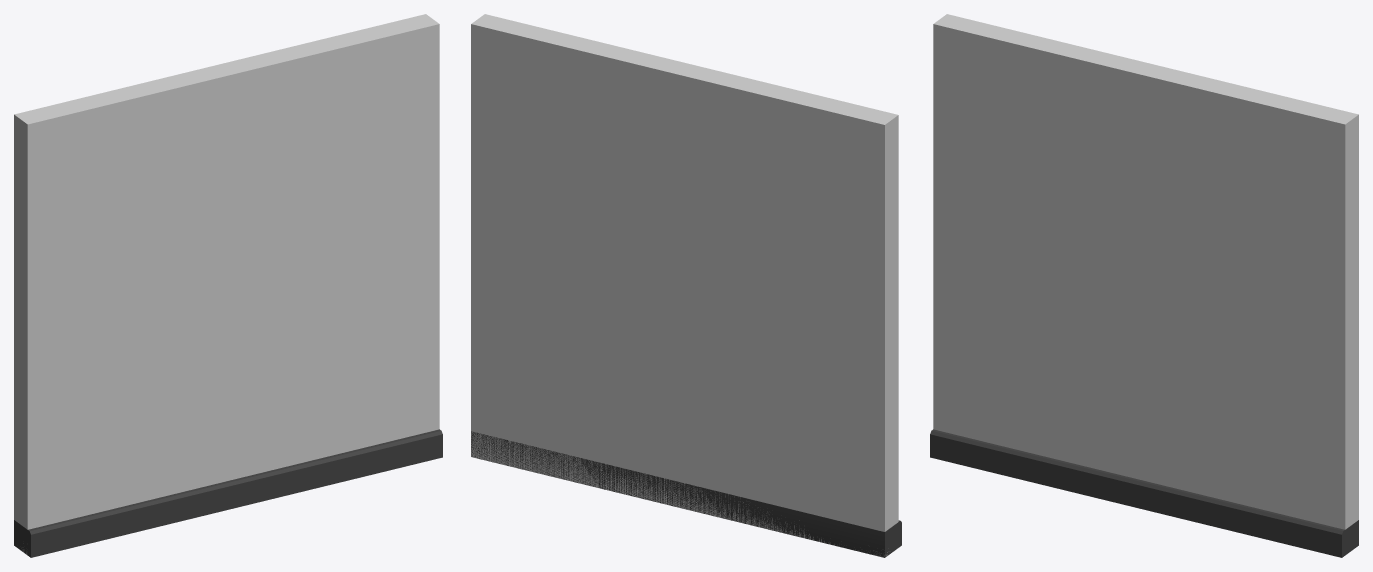
File: Kinder3_Wall_Full.fbx
The picture shows the model from 3 angles, left to right: view 1: azimuth 30°, elevation 25°; view 2: azimuth 150°, elevation 25°; view 3: azimuth 330°, elevation 25°; orthographic projection.
Visible parts, largest first — view 1: WallFloor2_01__6_.001, WallFloor2_01__6_.002; view 2: WallFloor2_01__6_.001, WallFloor2_01__6_.002; view 3: WallFloor2_01__6_.001, WallFloor2_01__6_.002.
Boxes of the visible parts, x1,y1,x2,y2 form: WallFloor2_01__6_.001: (14,14,439,554); WallFloor2_01__6_.002: (14,429,442,557); WallFloor2_01__6_.001: (471,14,898,557); WallFloor2_01__6_.002: (471,431,901,557); WallFloor2_01__6_.001: (933,14,1358,529); WallFloor2_01__6_.002: (930,429,1358,557).
Bounding box in the file's own units: 250 × 250 × 17.83.
